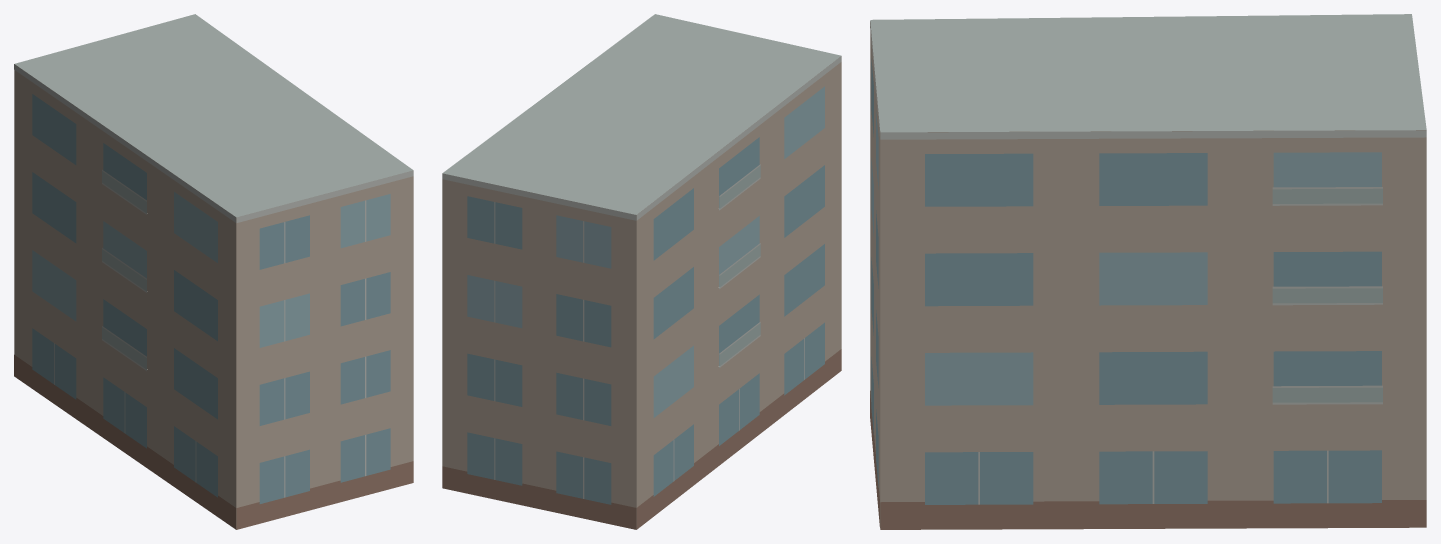
File: survey-upis-32620219.glb
The picture shows the model from 3 angles, left to right: view 1: azimuth 30°, elevation 25°; view 2: azimuth 150°, elevation 25°; view 3: azimuth 270°, elevation 25°; orthographic projection. The views are drawn at different scales.
Parts seen in each view (by area): view 1: survey-upis-32620219.tmp; view 2: survey-upis-32620219.tmp; view 3: survey-upis-32620219.tmp.
Part boxes in pixels (x1,y1,x2,y2): survey-upis-32620219.tmp: (14, 14, 413, 529); survey-upis-32620219.tmp: (442, 14, 841, 529); survey-upis-32620219.tmp: (870, 14, 1426, 529).
Size of the model in its own units: 8.37 by 13.1 by 16.63.
